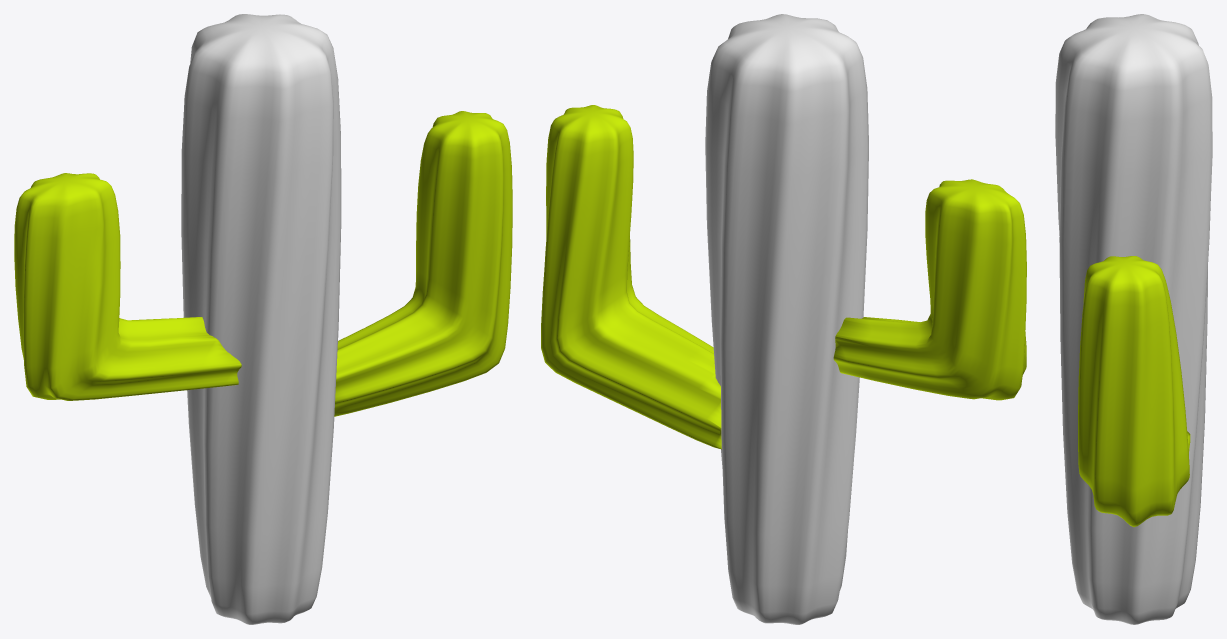
The model's file is cactus1.glb.
3 renders of one model, left to right at view 1: azimuth 30°, elevation 25°; view 2: azimuth 150°, elevation 25°; view 3: azimuth 270°, elevation 25°, orthographic.
Parts seen in each view (by area): view 1: Circle, Circle.001, Circle.003; view 2: Circle, Circle.001, Circle.003; view 3: Circle, Circle.001.
Part boxes in pixels (box(x1,y1,x2,y2)): Circle: box(181, 14, 341, 624); Circle.001: box(334, 111, 512, 416); Circle.003: box(14, 173, 241, 400); Circle: box(705, 14, 868, 624); Circle.001: box(541, 105, 721, 449); Circle.003: box(833, 179, 1026, 400); Circle: box(1055, 14, 1212, 624); Circle.001: box(1078, 256, 1190, 526).
Bounding box in the file's own units: 10.21 × 11.97 × 2.92.
